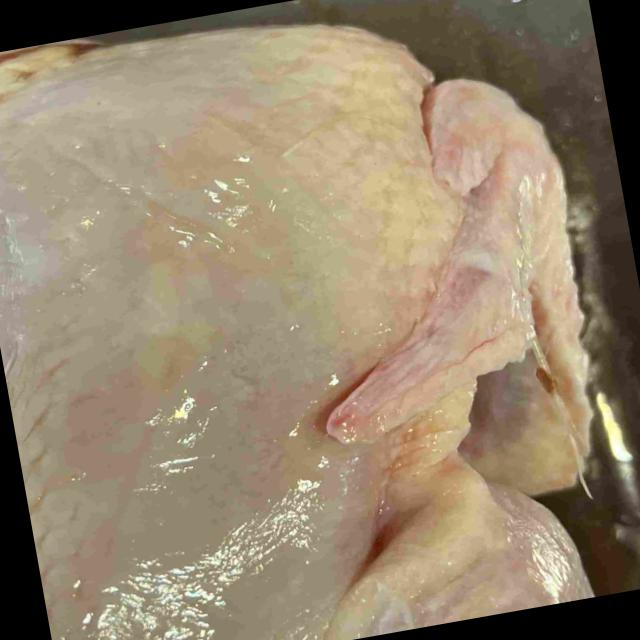breast: (0, 19, 444, 640)
leg: (347, 480, 605, 640)
wing: (328, 72, 586, 490)
